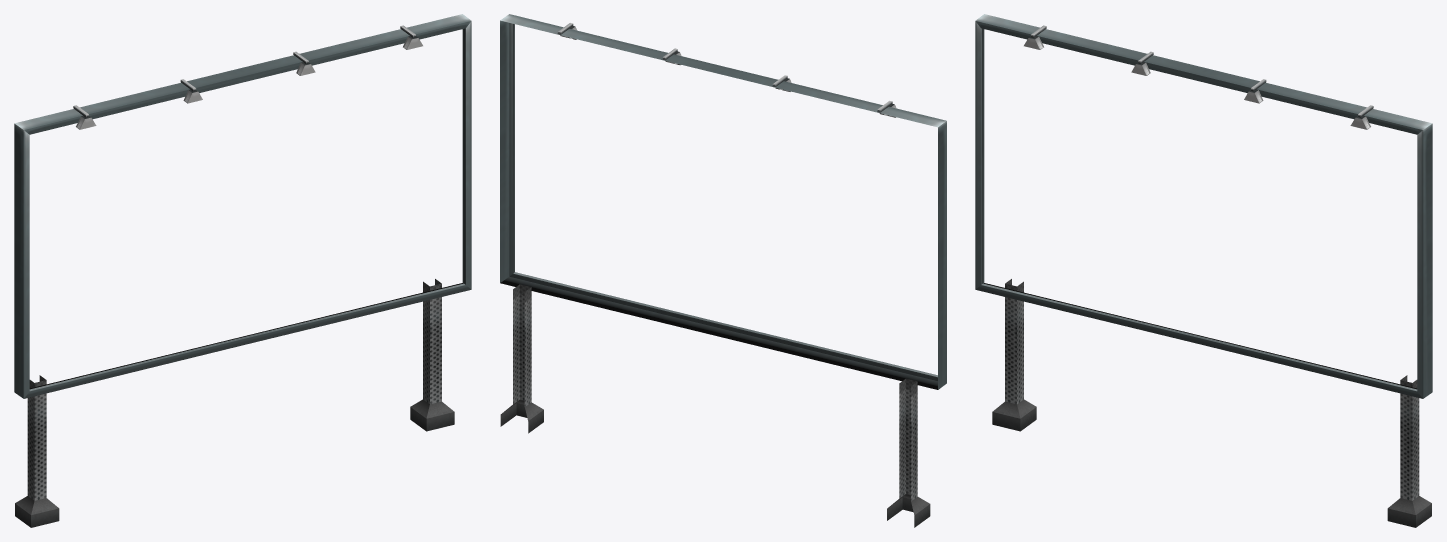
Rendered from ENV_SPONSORFRAME_GROUP.fbx.
The picture shows the model from 3 angles, left to right: view 1: azimuth 30°, elevation 25°; view 2: azimuth 150°, elevation 25°; view 3: azimuth 330°, elevation 25°; orthographic projection. The views are drawn at different scales.
Parts seen in each view (by area): view 1: ENV_SponsorFrame_geo; view 2: ENV_SponsorFrame_geo; view 3: ENV_SponsorFrame_geo.
Boxes of the visible parts, left/top/right/bottom form: ENV_SponsorFrame_geo: left=14, top=14, right=471, bottom=527; ENV_SponsorFrame_geo: left=500, top=14, right=946, bottom=527; ENV_SponsorFrame_geo: left=975, top=14, right=1432, bottom=527.
Bounding box in the file's own units: 452 × 393 × 43.77.
